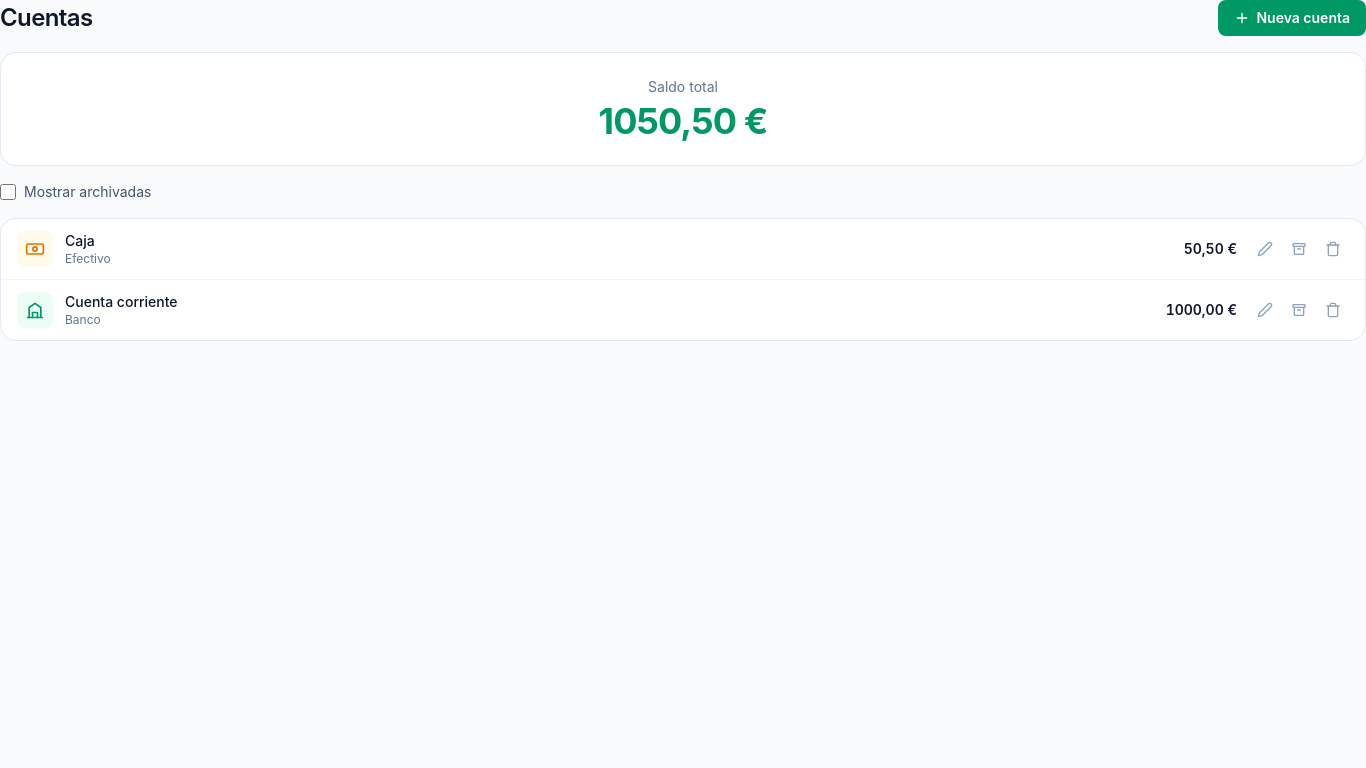
Scenario: AccountsPage › keeps the list visible and shows a banner when delete fails
Expected: the text "Cuenta corriente" is shown, x1=65 y1=293 x2=178 y2=310
Step 1. Click the button named "Eliminar Cuenta corriente" → click(1333, 310), box x1=1317 y1=294 x2=1349 y2=326
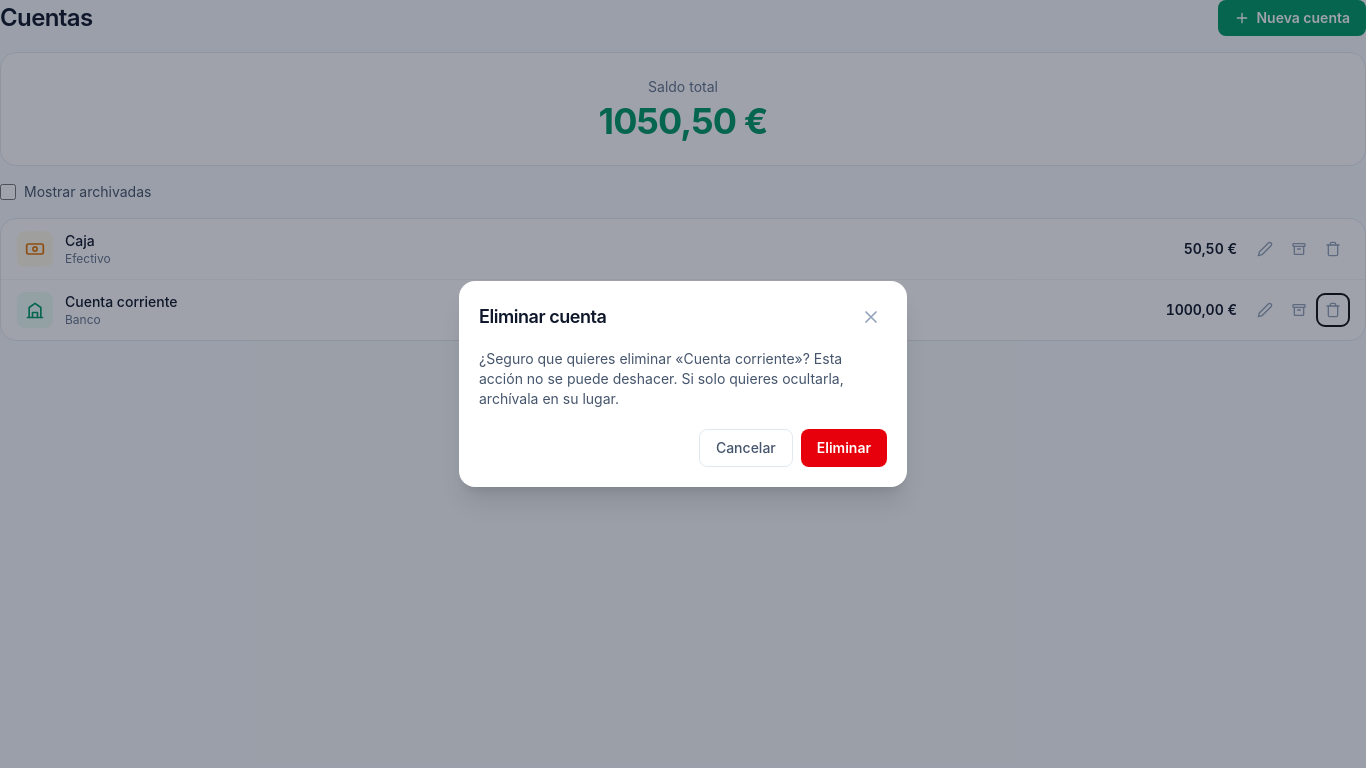
Step 2. Click the button "Eliminar" → click(844, 448), box x1=801 y1=429 x2=887 y2=467
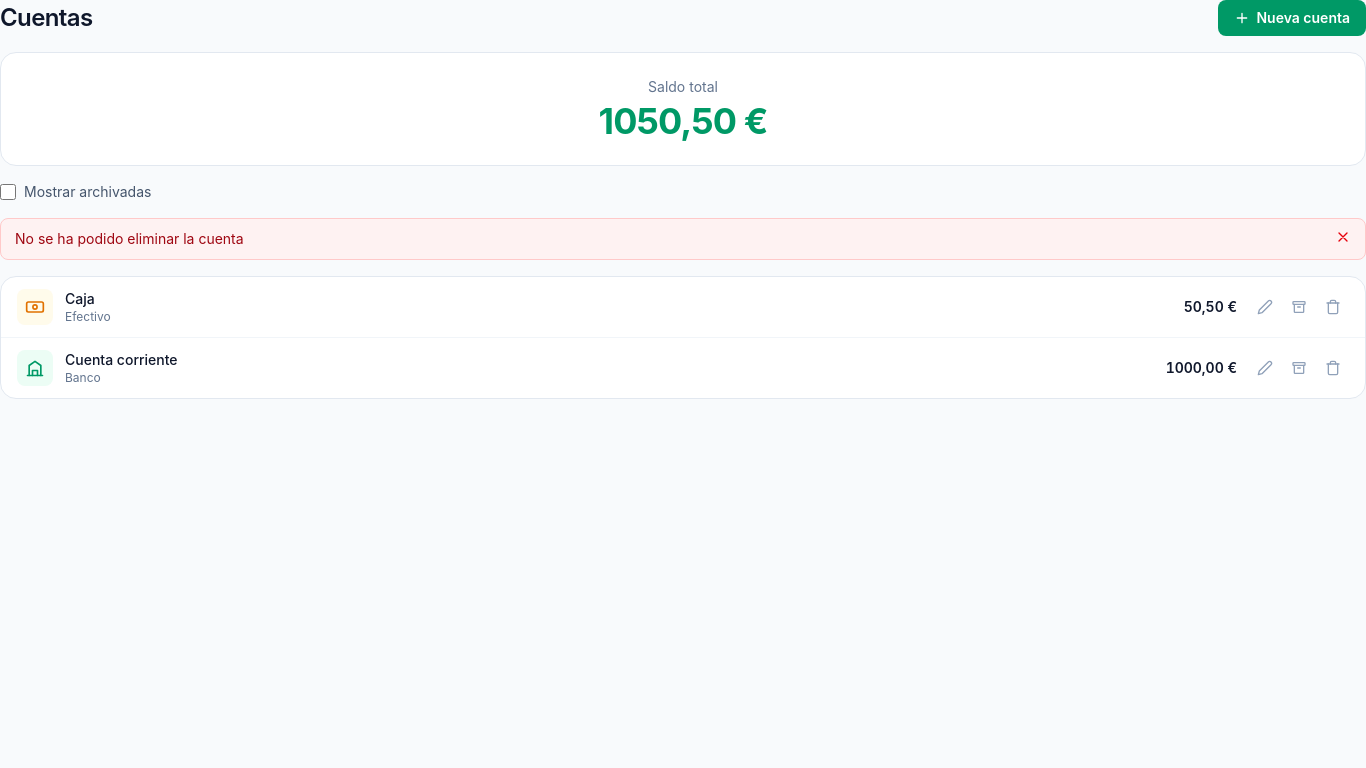
Expected: the text "Cuenta corriente" is shown, x1=65 y1=351 x2=178 y2=368
Now the message reads "No se ha podido eliminar la cuenta", box x1=15 y1=230 x2=244 y2=247
